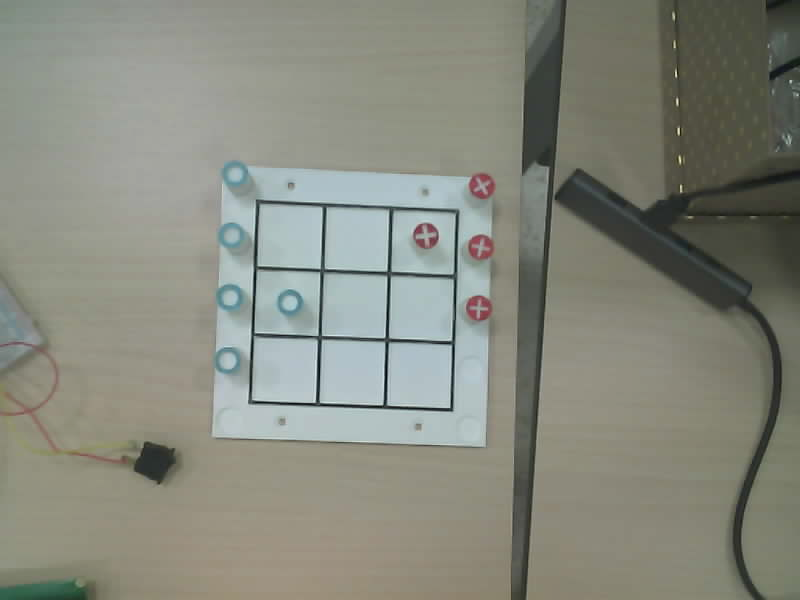blue circle: (221, 160, 248, 187), (218, 222, 246, 248), (216, 284, 243, 310), (277, 289, 303, 315), (215, 347, 240, 373)
board: (213, 161, 494, 445)
cells: (252, 338, 318, 403), (320, 340, 385, 405), (387, 343, 451, 408), (257, 203, 321, 268), (254, 270, 319, 334), (391, 210, 456, 273), (323, 273, 386, 337), (389, 277, 453, 340), (325, 207, 388, 270)
grid: (248, 199, 458, 411)
red cross: (468, 173, 495, 199), (465, 295, 491, 320), (468, 234, 493, 259), (413, 224, 438, 248)
